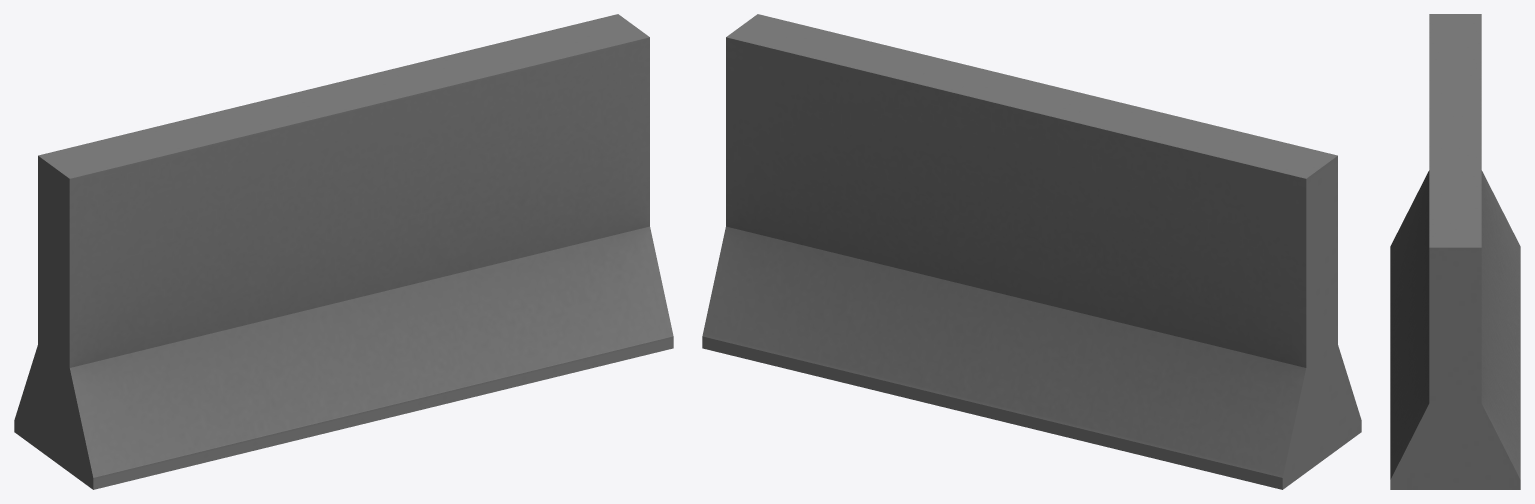
The model's file is Jersey_Barricade.fbx.
3 views of the same model, side by side, from view 1: azimuth 30°, elevation 25°; view 2: azimuth 150°, elevation 25°; view 3: azimuth 270°, elevation 25° (orthographic). The views are drawn at different scales.
Visible parts, largest first — view 1: Jersey_Barricade; view 2: Jersey_Barricade; view 3: Jersey_Barricade.
Part boxes in pixels (<box>): Jersey_Barricade: <box>14,14,673,489</box>; Jersey_Barricade: <box>702,14,1361,489</box>; Jersey_Barricade: <box>1390,14,1520,489</box>.
Size of the model in its own units: 8.44 by 4.08 by 1.99.
